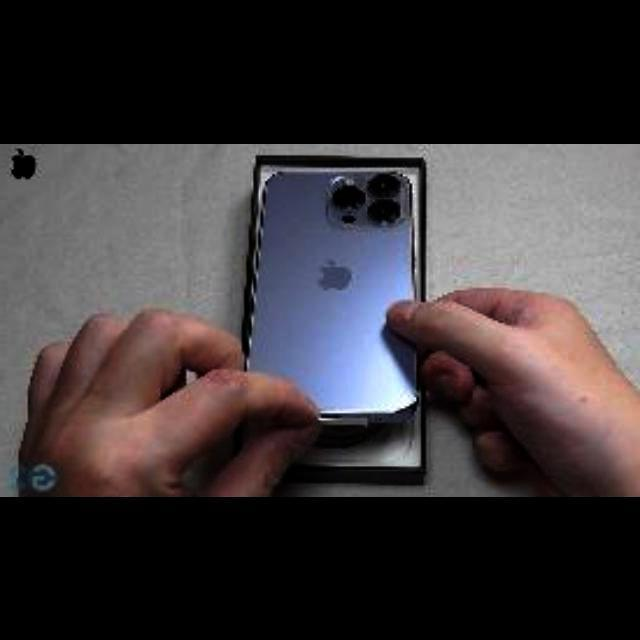mobile: (248, 169, 418, 425)
